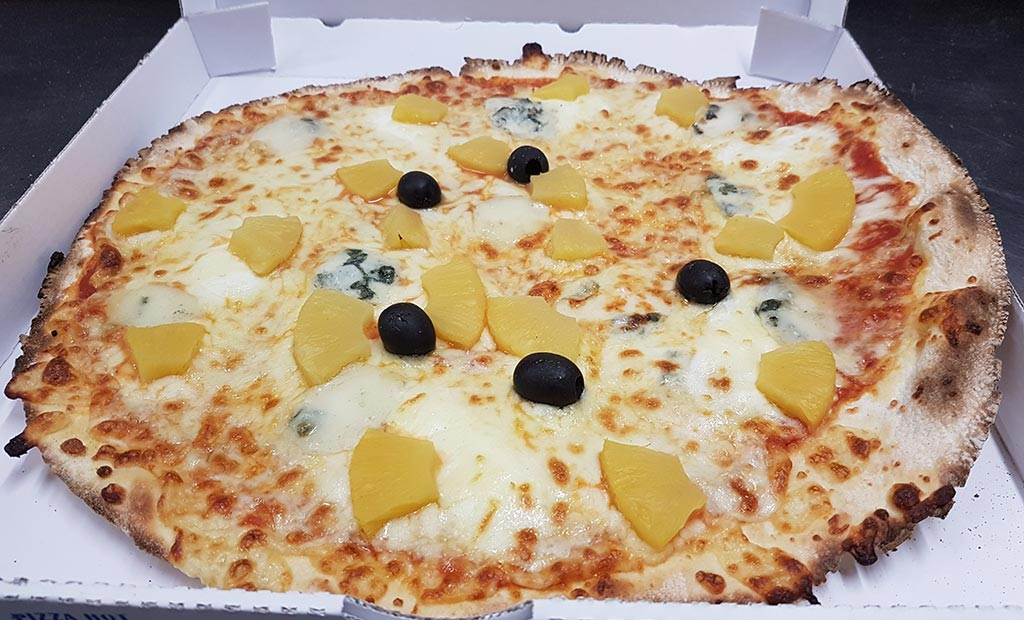Olives: (513, 354, 582, 404), (379, 300, 435, 356), (677, 265, 731, 300), (399, 173, 441, 208), (509, 142, 545, 182)
Pineapple: (343, 423, 443, 532), (597, 441, 704, 542), (288, 287, 373, 383), (759, 338, 839, 422), (486, 295, 585, 361), (788, 165, 856, 252), (423, 261, 490, 344), (221, 213, 305, 271), (117, 325, 208, 377), (109, 188, 181, 230), (528, 162, 587, 208), (334, 157, 402, 196), (650, 81, 710, 125), (714, 216, 778, 257), (373, 205, 424, 247), (450, 134, 505, 170), (391, 97, 449, 124), (536, 77, 587, 96)
Pizza: (21, 57, 1011, 611)
